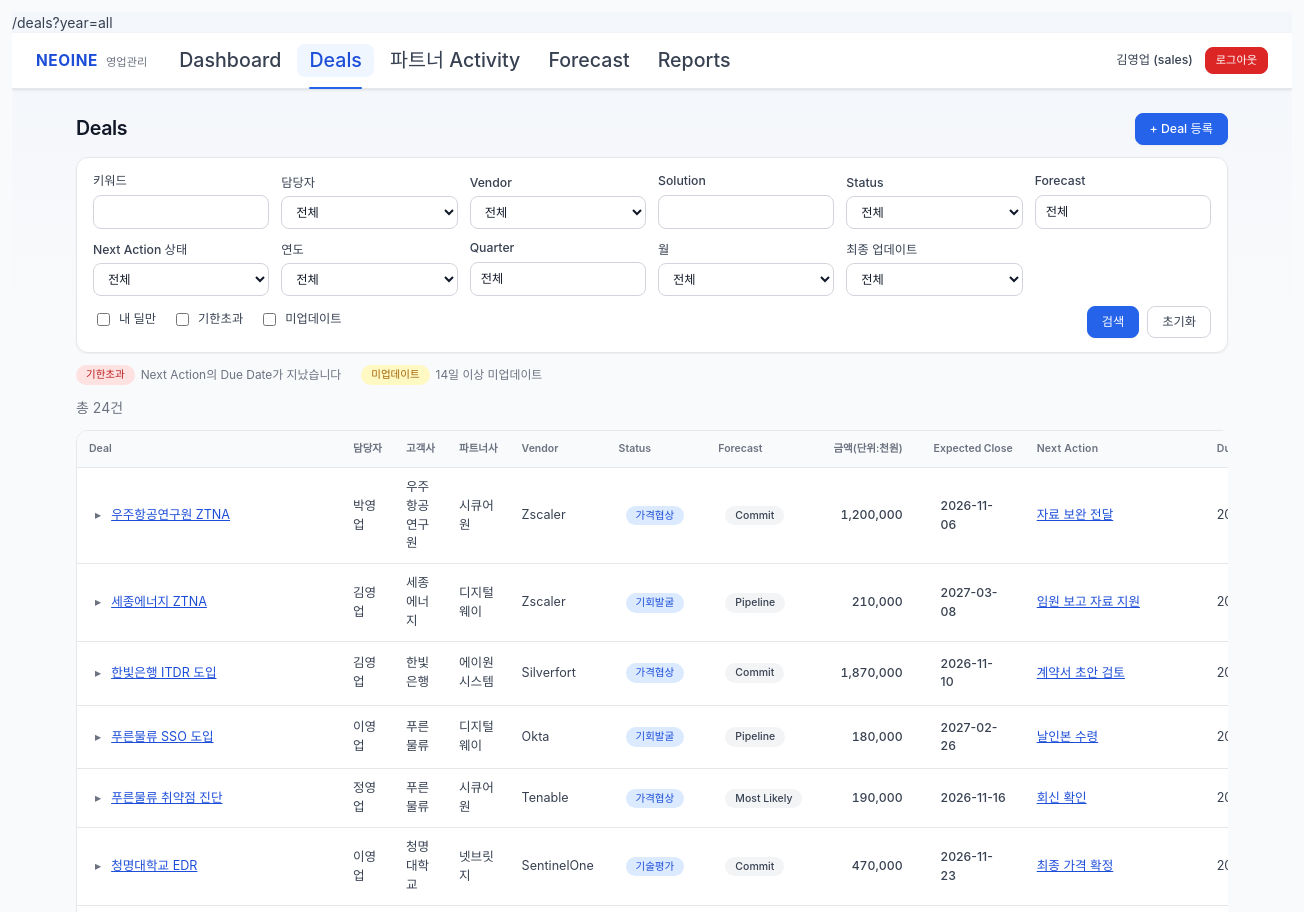
Test: 필터와 정렬 (T-LIST-05~09) › applies the solution text on search
Expected: the row "한빛은행 ITDR 도입" is shown, [77, 642, 1228, 706]
In the field labelled "Solution": coordinates (746, 212) [658, 195, 834, 229], type "  itdr  "
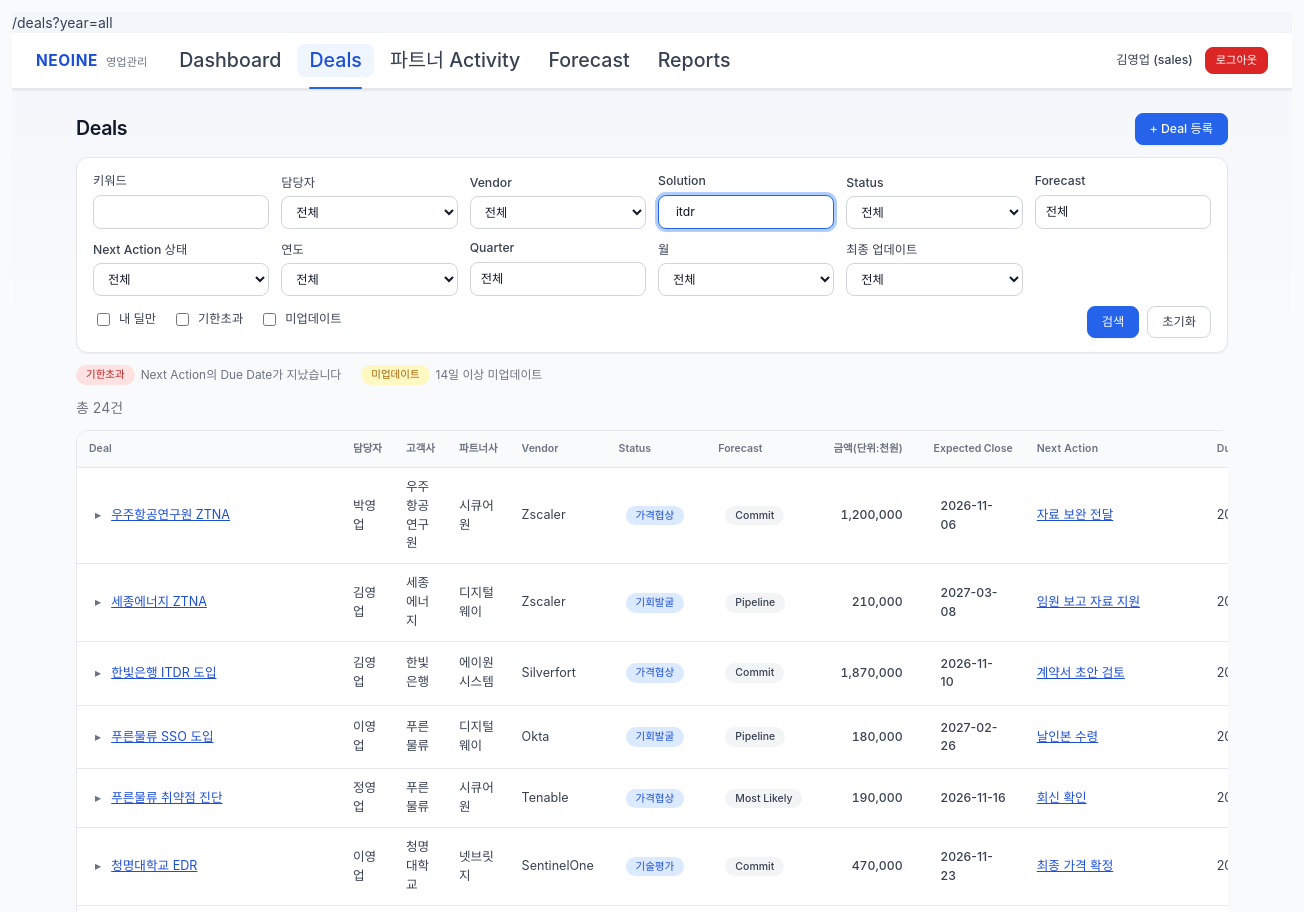
Expected: the element with test id "location" does not show "solution="
Click the button "검색": coordinates (1113, 322) [1087, 306, 1139, 338]
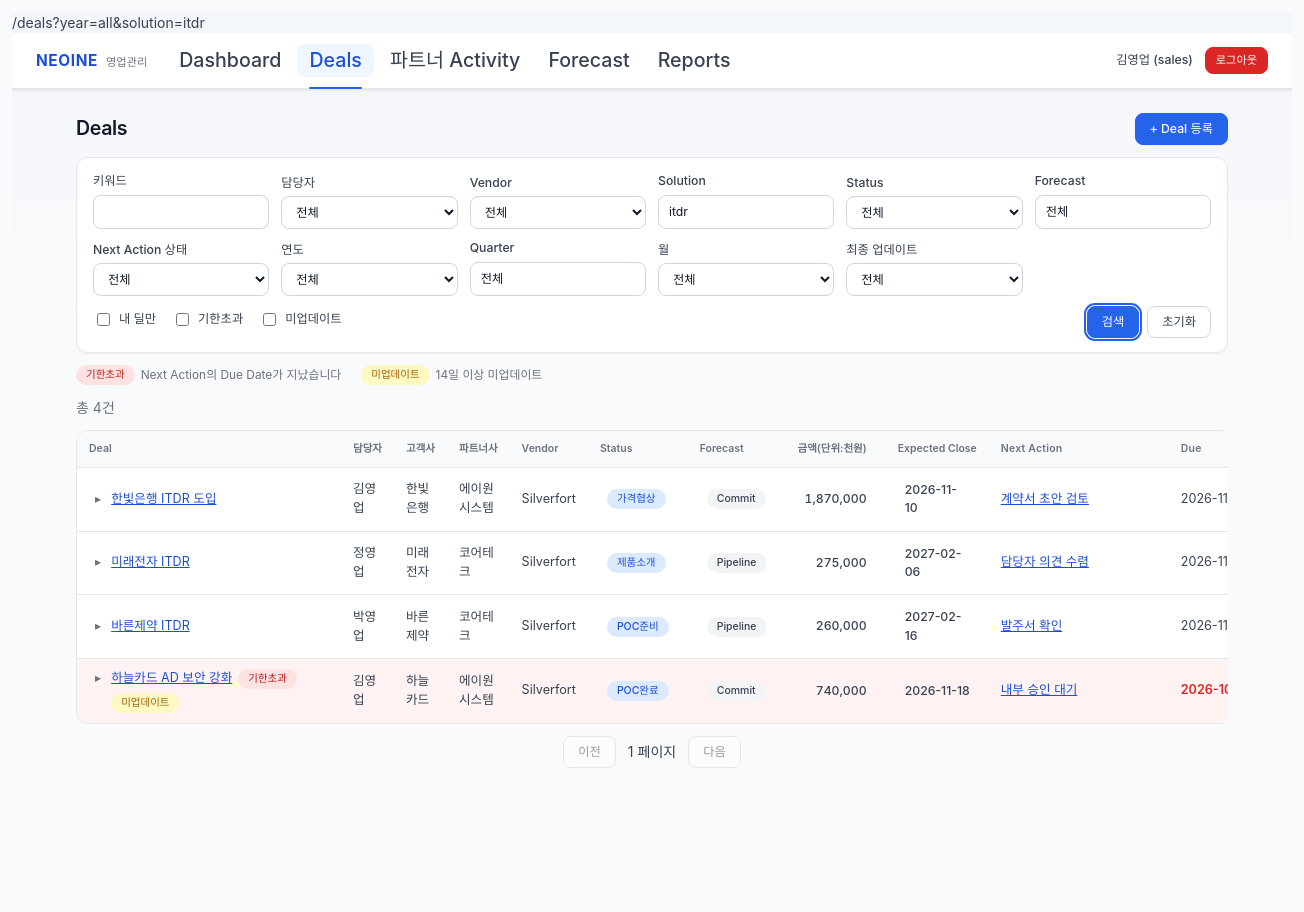
Expected: the row "미래전자 ITDR" is shown, [77, 532, 1228, 595]
Now the text with test id "location" shows "solution=itdr", box [12, 14, 205, 31]
